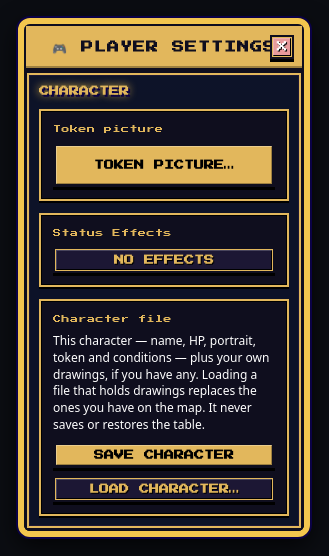
PlayerSettingsMenu › Status Effects Dropdown › opens dropdown when button is clicked
What coordinates should you click on to do the following:
click the button "No Effects"
I would click on:
 (164, 260)
Its box is [53,247,275,273].
(page scrolled)
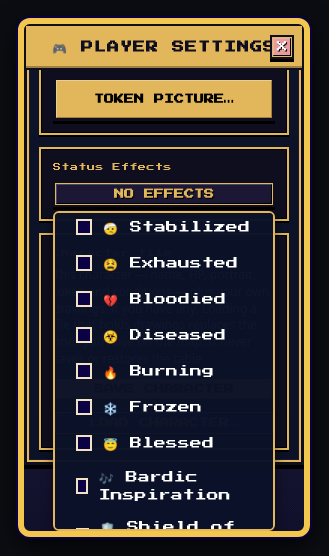
Now the checkbox labelled "🔥 Burning" is shown, box [76,363,92,379]
